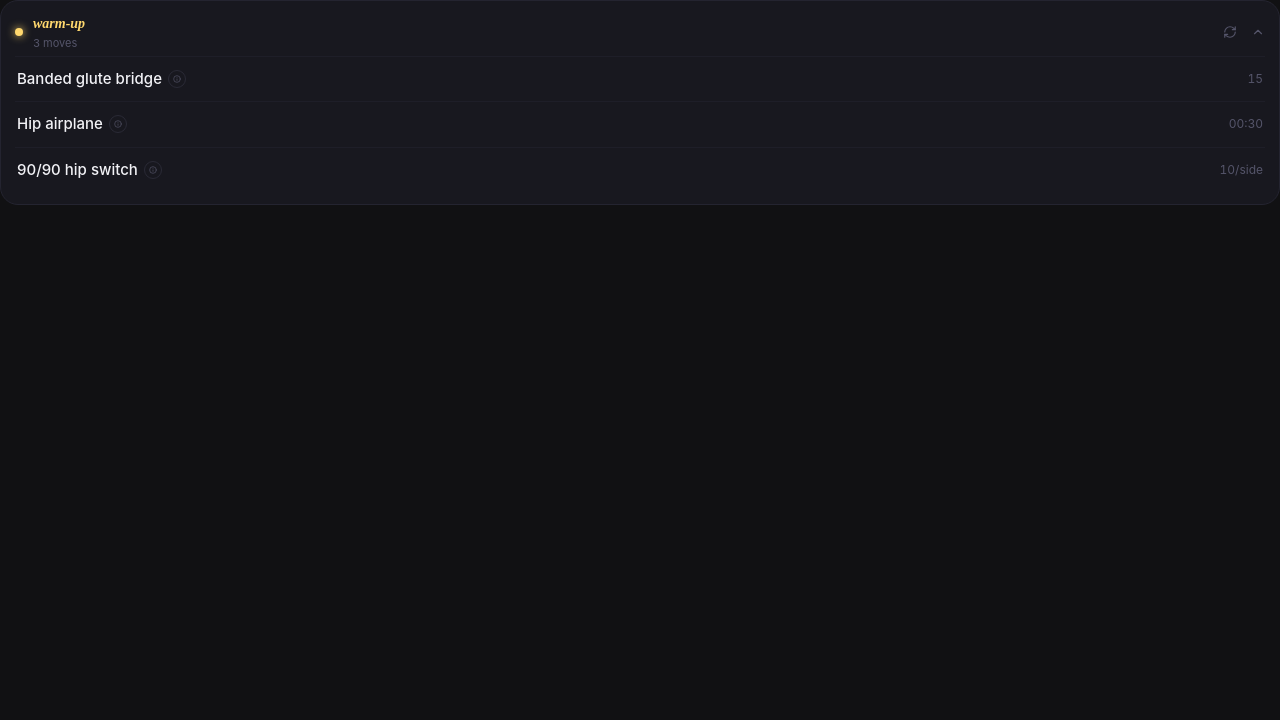
Test: RoutineSlot › tapping the regenerate icon opens the picker with minute + focus chips
Click the button named "regenerate" at (1230, 32), box [1223,25,1237,39]
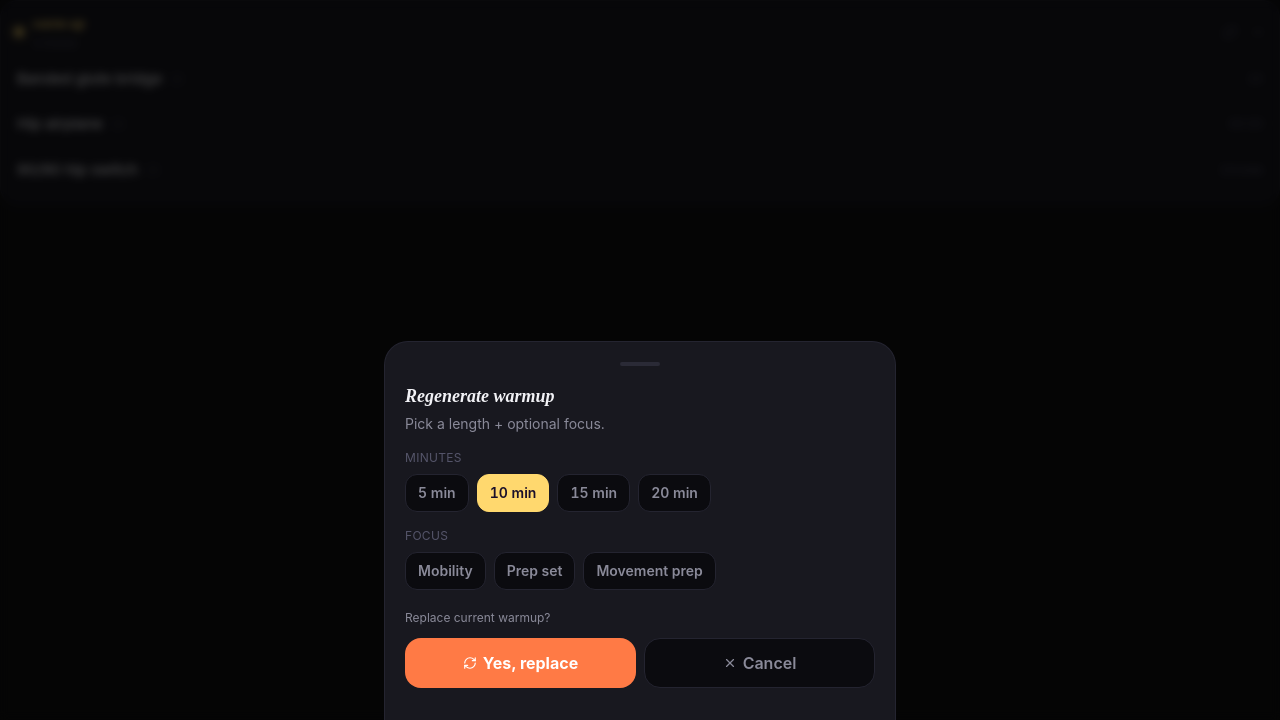
Expected: the dialog is shown
Expected: the button "5 min" is shown, [405,474,469,512]
Expected: the button "10 min" is shown, [477,474,549,512]
